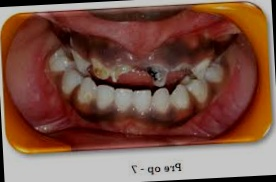Caries: (126, 63, 166, 90), (86, 63, 114, 79), (175, 62, 196, 80)
